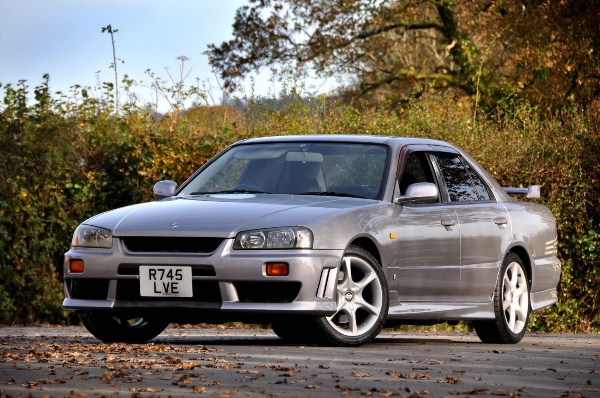licence: (137, 263, 194, 299)
